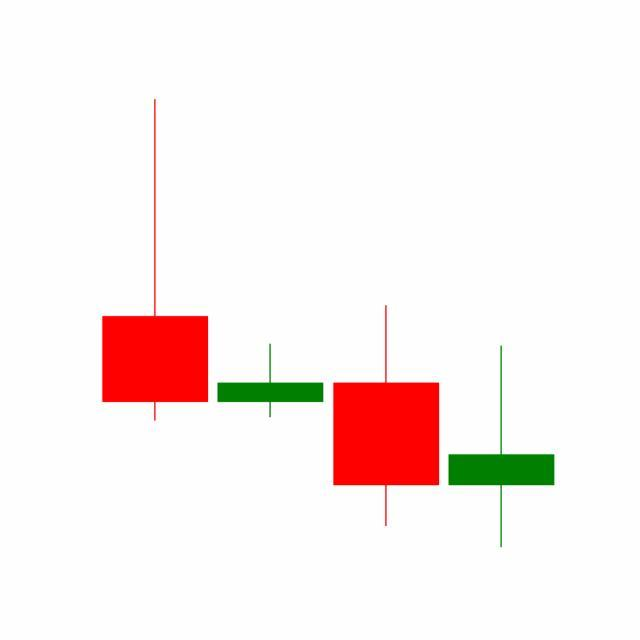Spinning Top: (444, 344, 560, 550)
